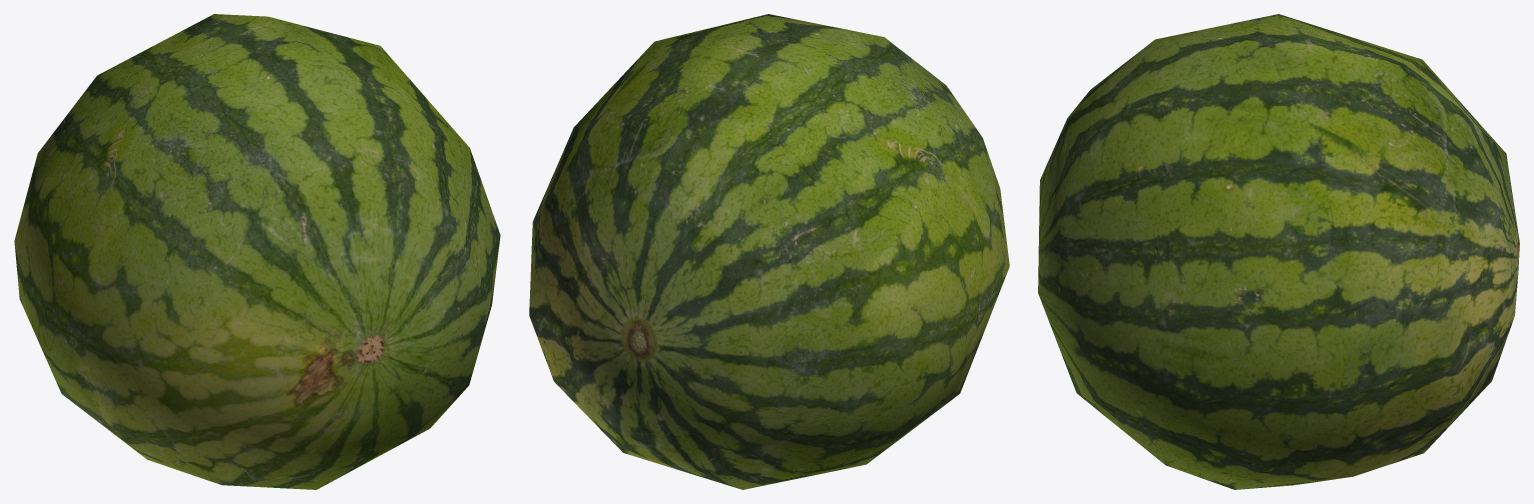
Rendered from watermelon_tguocjppa_low.glb.
3 renders of one model, left to right at view 1: azimuth 30°, elevation 25°; view 2: azimuth 150°, elevation 25°; view 3: azimuth 270°, elevation 25°, orthographic.
Parts seen in each view (by area): view 1: tguocjppa_LOD0_TIER3_000; view 2: tguocjppa_LOD0_TIER3_000; view 3: tguocjppa_LOD0_TIER3_000.
Part boxes in pixels (<box>): tguocjppa_LOD0_TIER3_000: <box>14,14,500,489</box>; tguocjppa_LOD0_TIER3_000: <box>529,14,1009,489</box>; tguocjppa_LOD0_TIER3_000: <box>1038,14,1519,489</box>.
Bounding box in the file's own units: 0.1985 × 0.1994 × 0.2035.
1 material, 1 textured.
